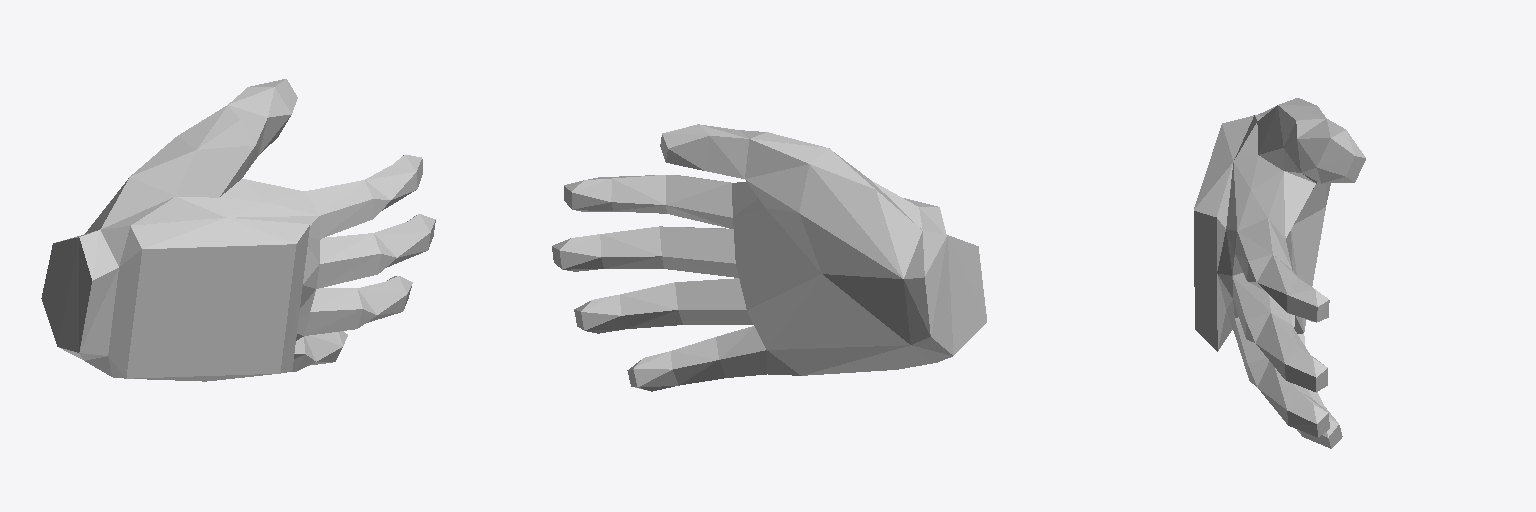
File: Chief Right Hand.obj
3 views of the same model, side by side, from view 1: azimuth 30°, elevation 25°; view 2: azimuth 150°, elevation 25°; view 3: azimuth 270°, elevation 25° (orthographic).
Visible parts, largest first — view 1: MasterChief; view 2: MasterChief; view 3: MasterChief.
Boxes of the visible parts, x1=… form: MasterChief: x1=41, y1=79, x2=435, y2=381; MasterChief: x1=552, y1=124, x2=986, y2=391; MasterChief: x1=1194, y1=98, x2=1365, y2=448.
Size of the model in its own units: 0.1415 by 0.0953 by 0.0535.